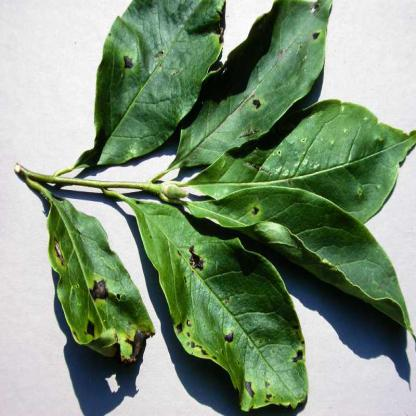Tomato leaf bacterial spot: (130, 192, 309, 411), (189, 189, 414, 336), (152, 3, 331, 178), (37, 196, 150, 379)
